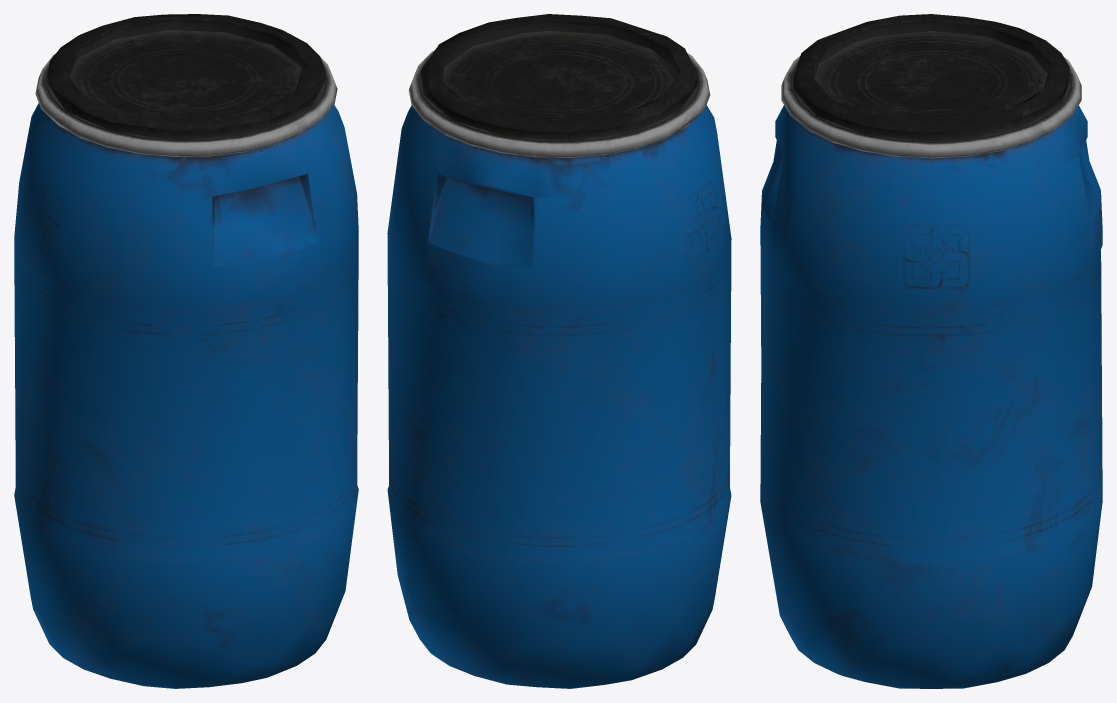
The model's file is Barrel_02.gltf.
The picture shows the model from 3 angles, left to right: view 1: azimuth 30°, elevation 25°; view 2: azimuth 150°, elevation 25°; view 3: azimuth 270°, elevation 25°; orthographic projection.
Visible parts, largest first — view 1: Barrel_02; view 2: Barrel_02; view 3: Barrel_02.
Boxes of the visible parts, bbox=[...] form: Barrel_02: bbox=[14, 14, 358, 688]; Barrel_02: bbox=[387, 14, 731, 688]; Barrel_02: bbox=[760, 14, 1102, 688].
Bounding box in the file's own units: 0.4882 × 0.88 × 0.4846.
1 material, 1 textured.
